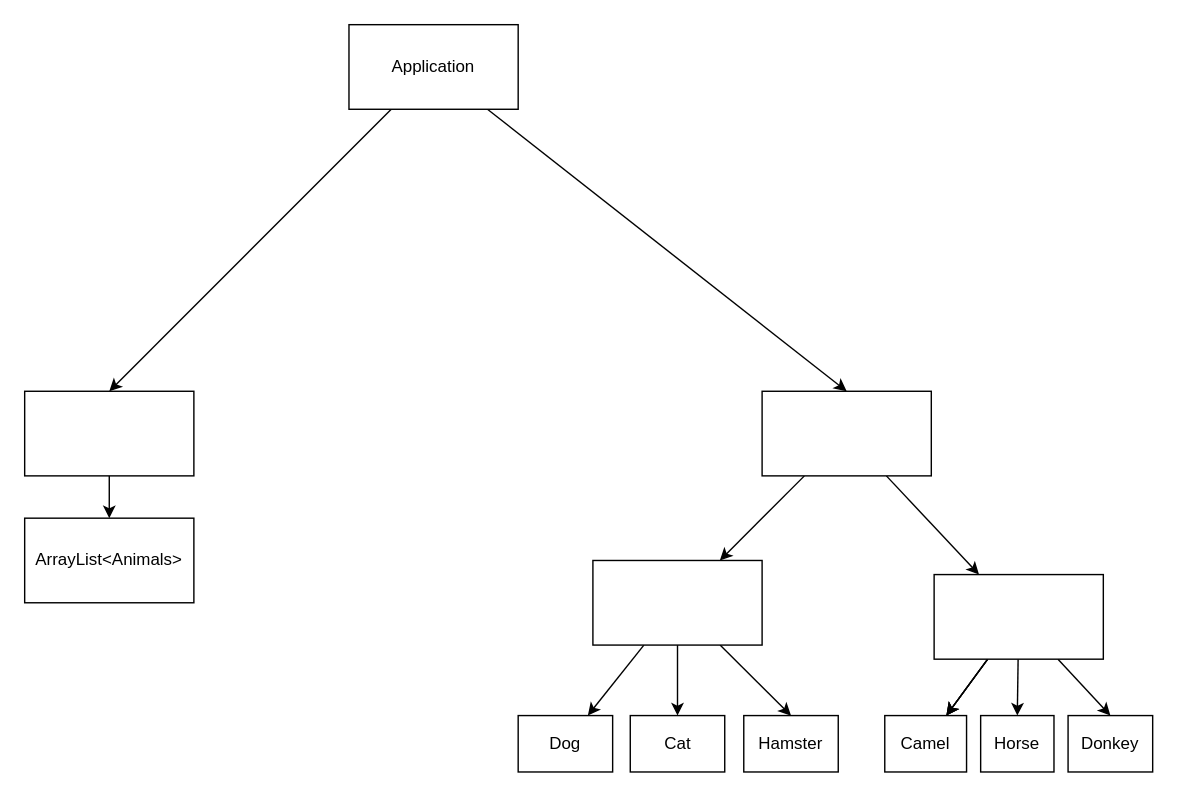
This 1177x797 diagram has some shape labels left out. Each missing label, with the centre of its shape:
"Animals (absract)" goes at (846,433).
"PackAnimals (abstract)" goes at (1018,616).
"Pets (abstract)" goes at (676,602).
"Repository Storage" goes at (108,433).
